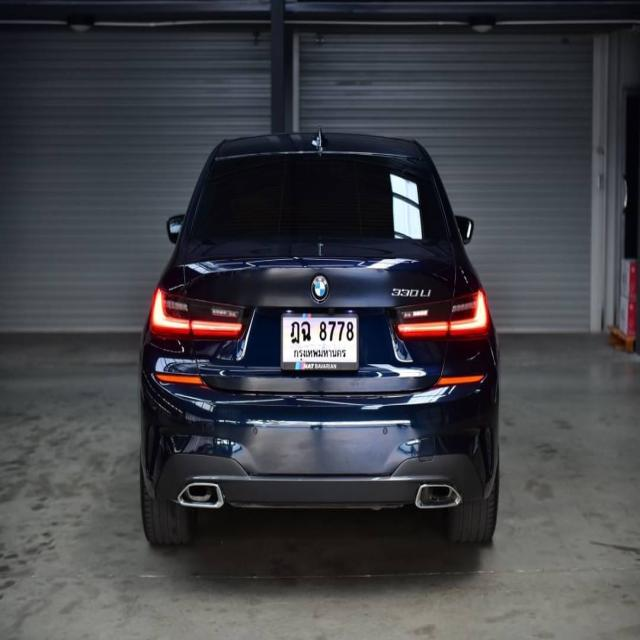license_plate: (282, 311, 359, 374)
